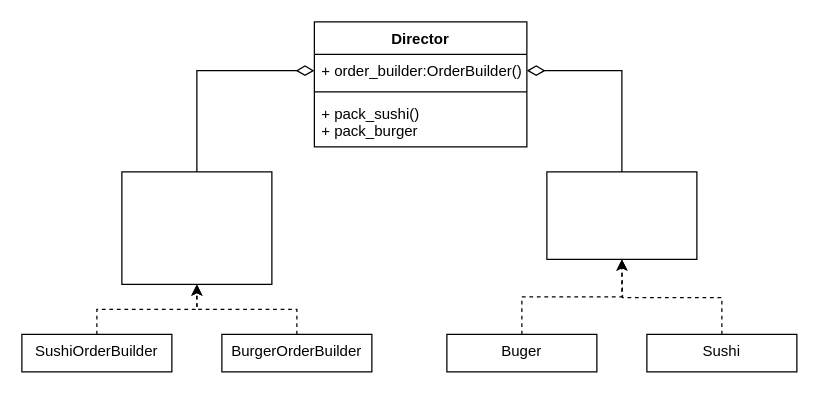
Image size: 819x394. Some labels were removed from this diagram. The centre of each missing label's shape, as x and y in pixels:
"<<Interface>> OrderBuilder + pack() + add_gloves() + get_ready_order()" goes at [196,227].
"<<Interface>> Product + name()" goes at [621,215].
